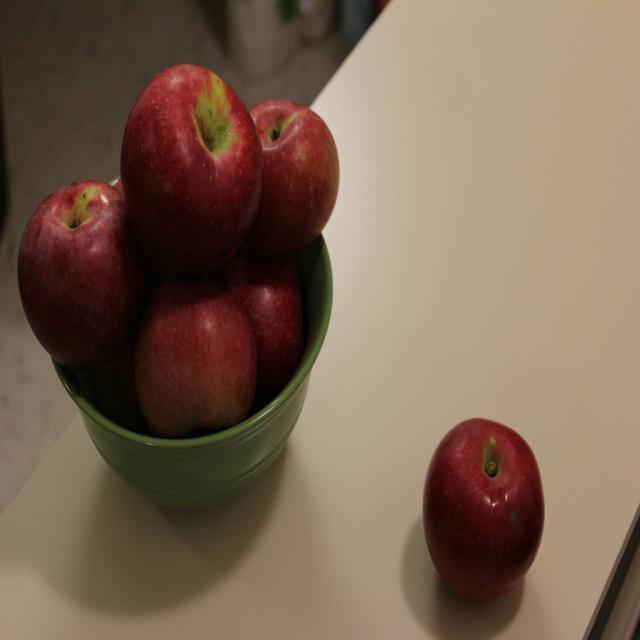Healty Apple: (18, 58, 341, 439), (421, 419, 550, 608)
